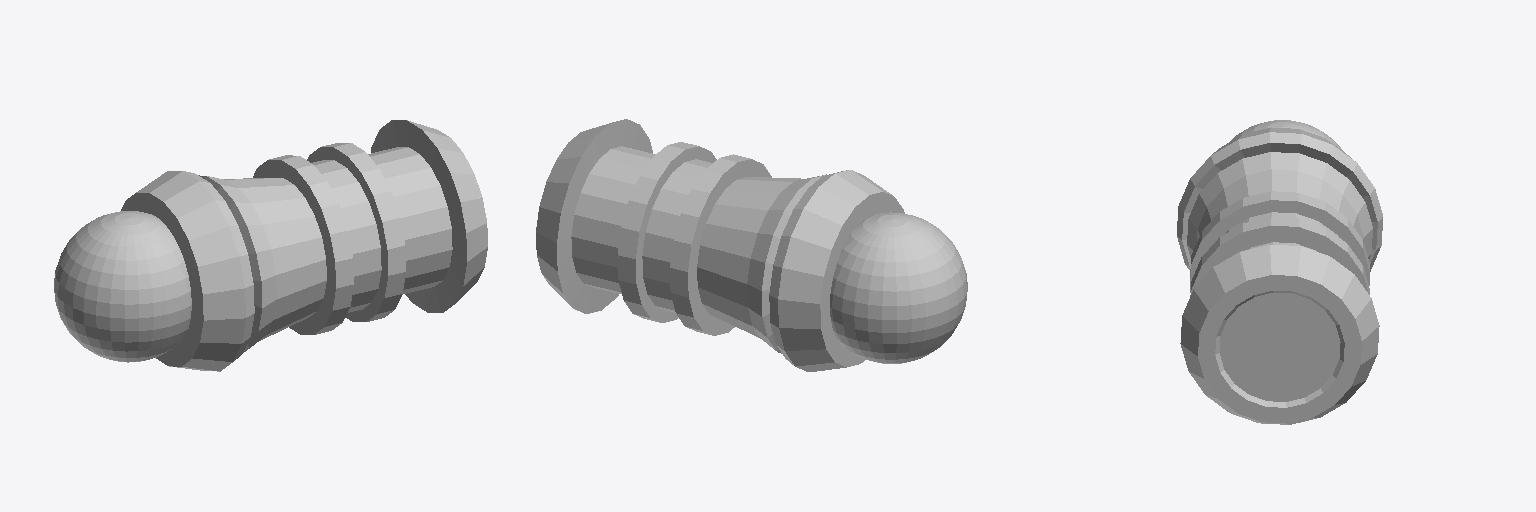
File: hip_l.obj
3 views of the same model, side by side, from view 1: azimuth 30°, elevation 25°; view 2: azimuth 150°, elevation 25°; view 3: azimuth 270°, elevation 25° (orthographic).
Visible parts, largest first — view 1: hip_l_Sphere.001; view 2: hip_l_Sphere.001; view 3: hip_l_Sphere.001.
Boxes of the visible parts, x1,y1,x2,y2 form: hip_l_Sphere.001: [54, 120, 487, 371]; hip_l_Sphere.001: [536, 119, 967, 371]; hip_l_Sphere.001: [1177, 120, 1382, 424].
Bounding box in the file's own units: 0.4959 × 0.2325 × 0.2325.